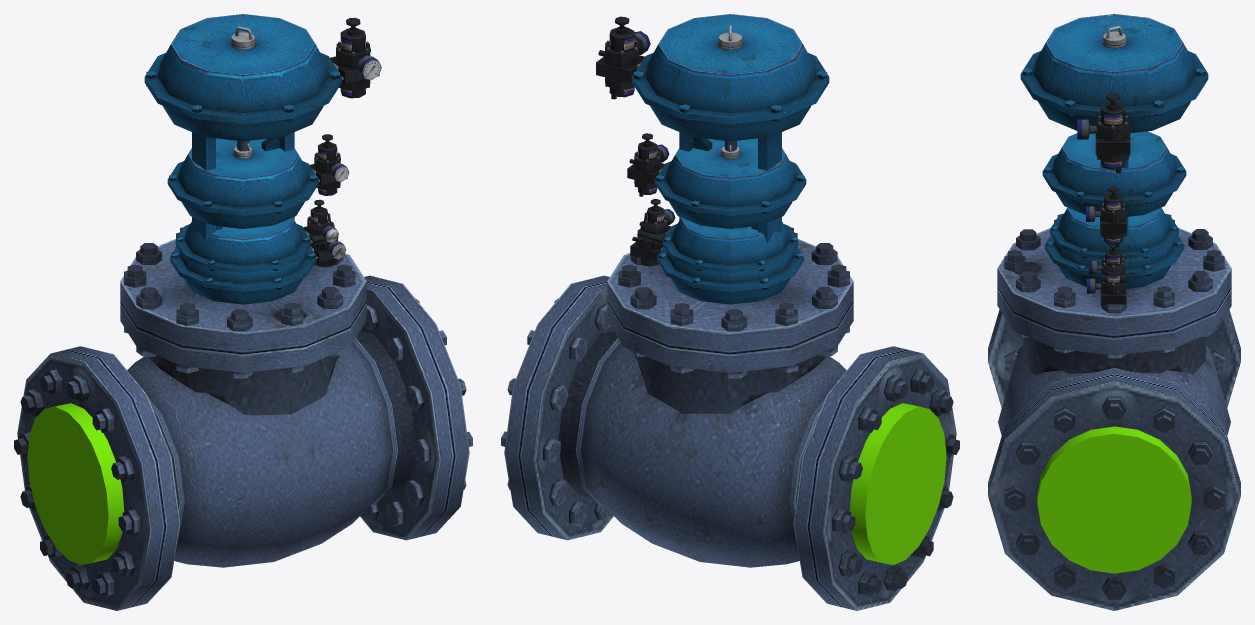
The model's file is AutoMaticValve_Group.fbx.
The picture shows the model from 3 angles, left to right: view 1: azimuth 30°, elevation 25°; view 2: azimuth 150°, elevation 25°; view 3: azimuth 270°, elevation 25°; orthographic projection. The views are drawn at different scales.
Visible parts, largest first — view 1: Body (×4), Point_Pos; view 2: Body (×4), Point_Pos; view 3: Body (×4), Point_Pos.
Part boxes in pixels (left/top/right/bottom): Body (×4): left=14, top=14, right=472, bottom=610; Point_Pos: left=27, top=403, right=124, bottom=565; Body (×4): left=501, top=14, right=959, bottom=610; Point_Pos: left=849, top=403, right=946, bottom=565; Body (×4): left=988, top=14, right=1240, bottom=610; Point_Pos: left=1037, top=426, right=1191, bottom=573.
Bounding box in the file's own units: 8.18 × 11.94 × 5.37.
2 materials, 1 textured.
